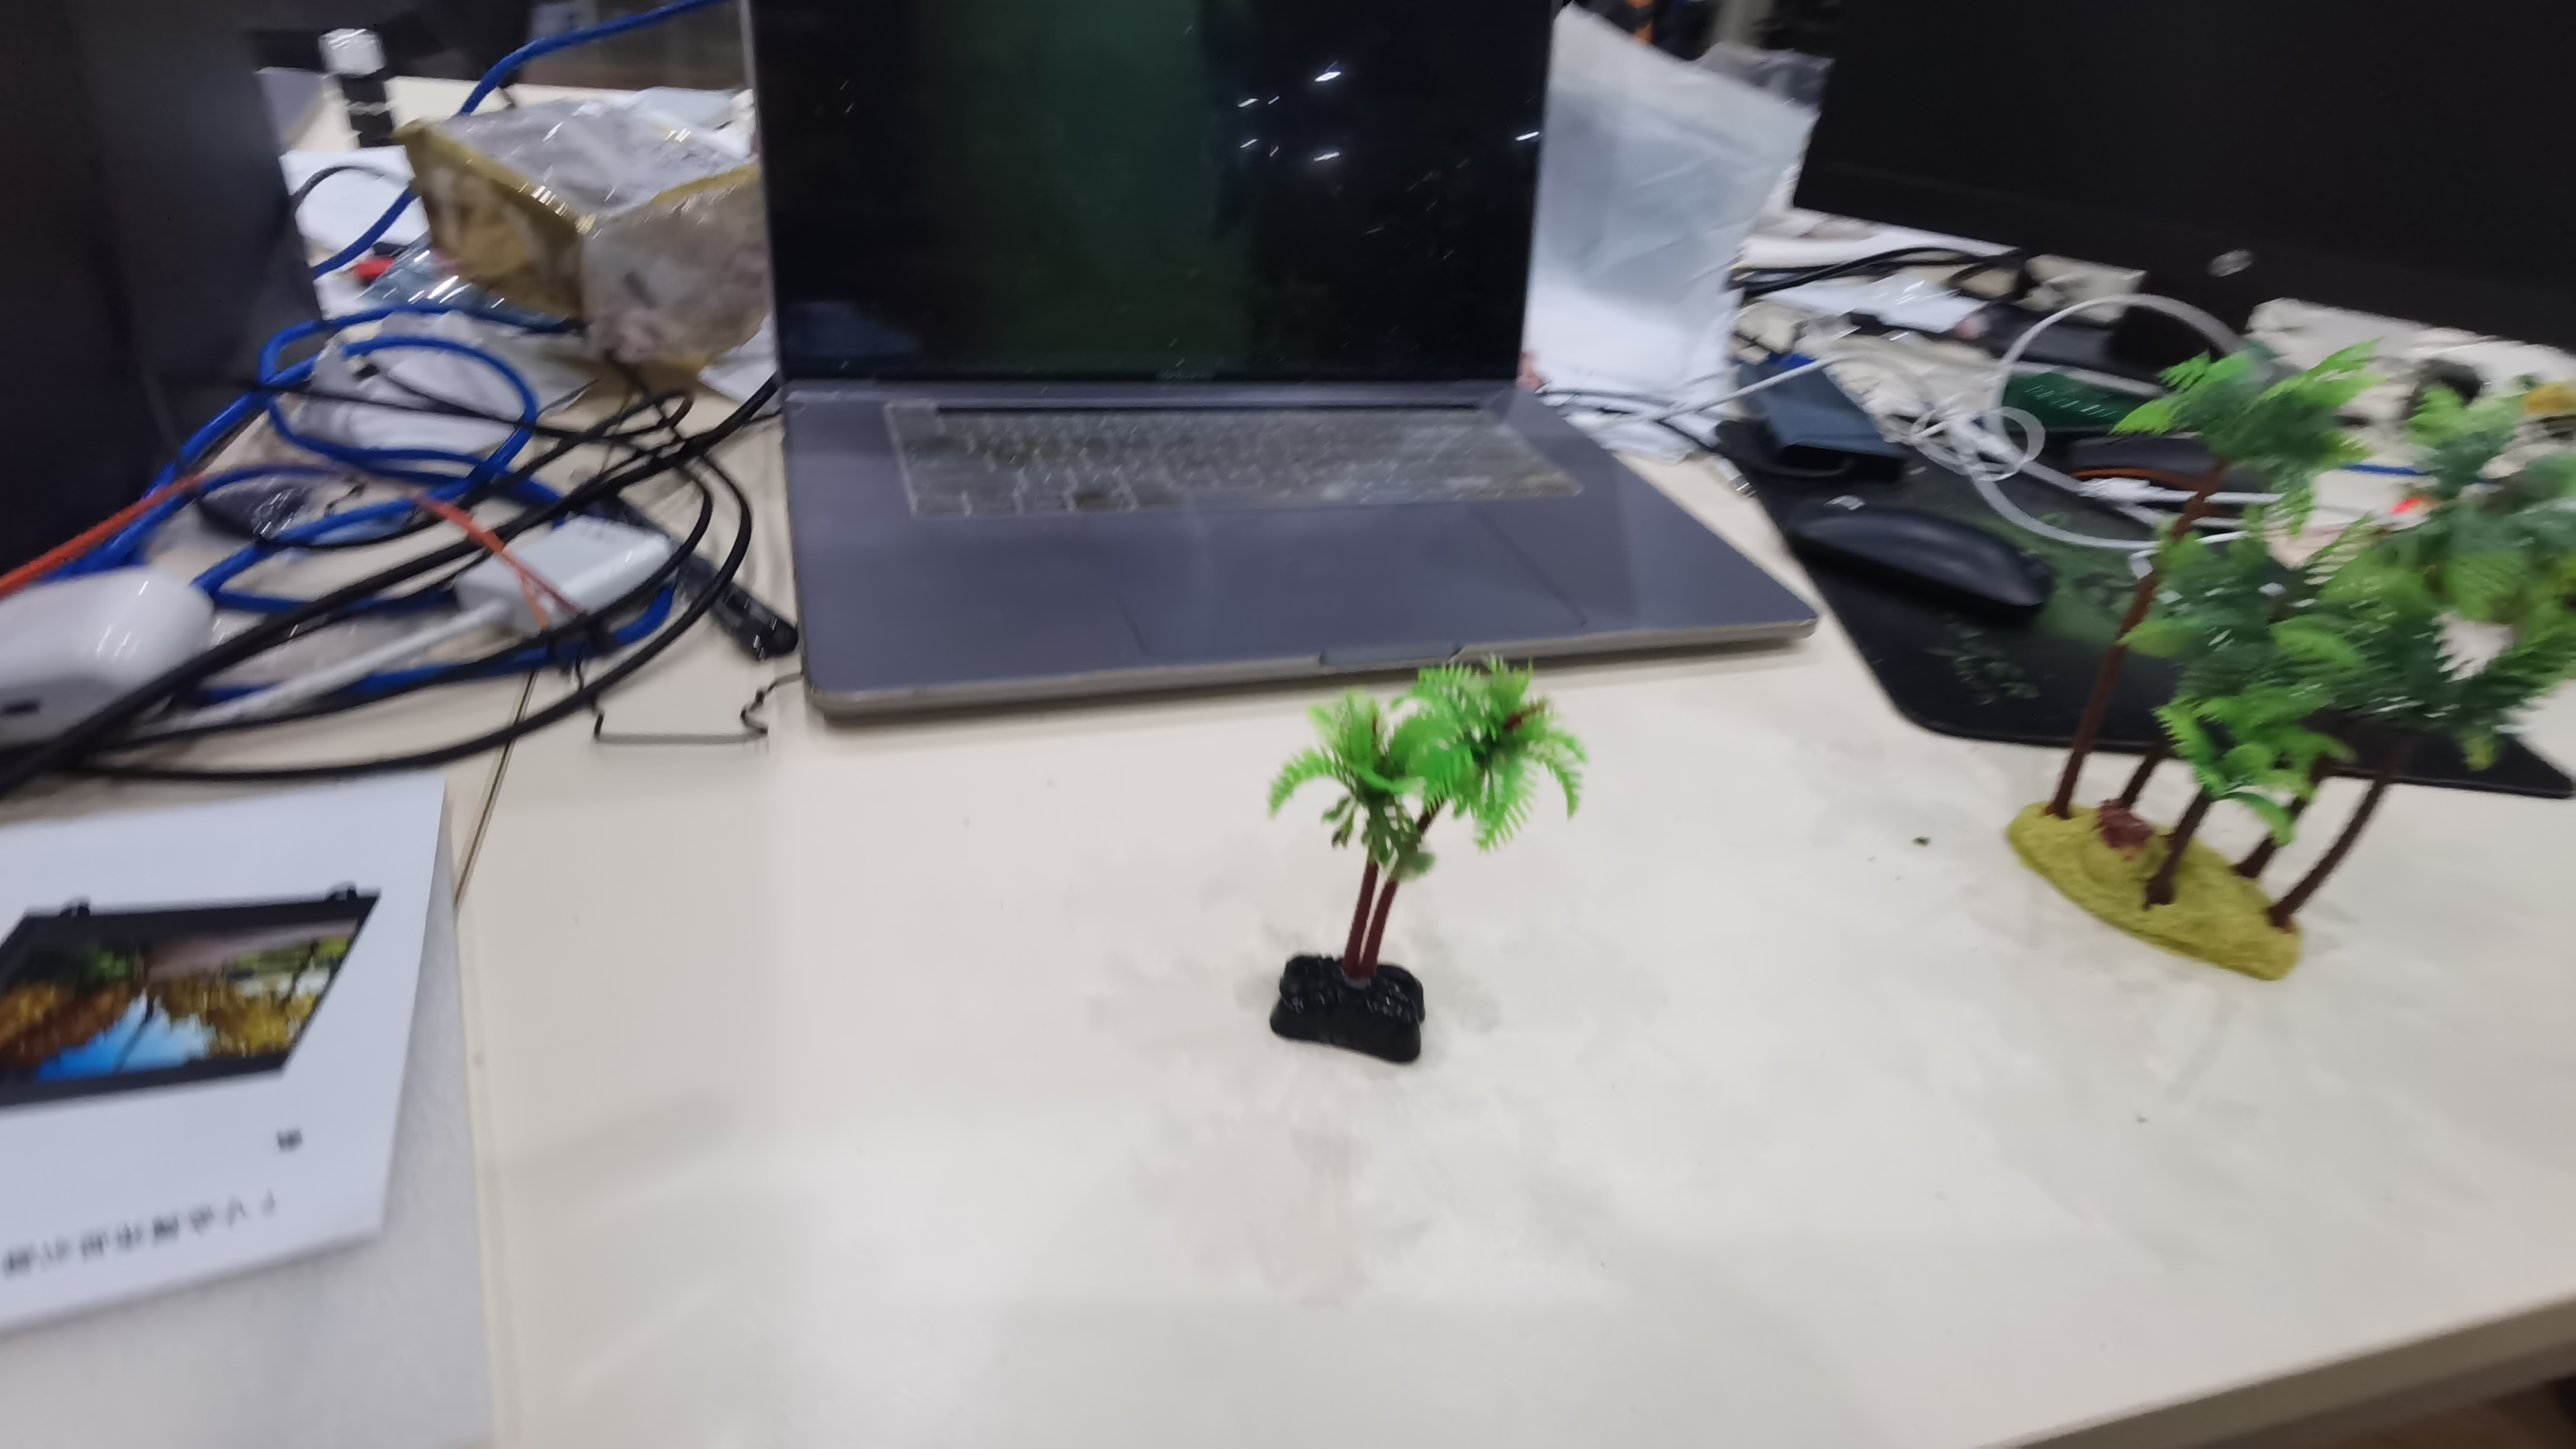corn: (2013, 315, 2576, 980), (1246, 656, 1594, 1079)
